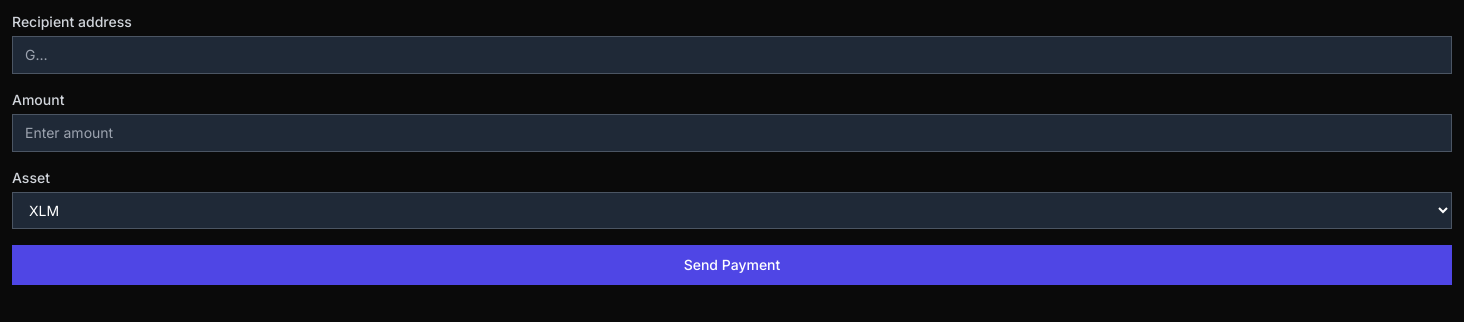
PaymentForm › shows validation error for invalid Stellar address
Type "not-a-valid-address" into the field labelled "Recipient address".
click(732, 55); type("not-a-valid-address")  # box [12,36,1452,74]
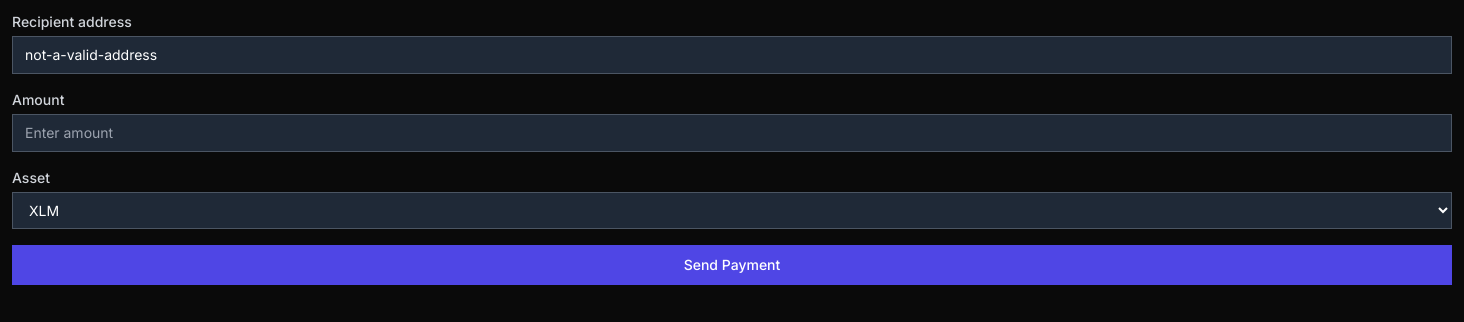
Type "10" into the number field labelled "Amount".
click(732, 133); type("10")  # box [12,114,1452,152]
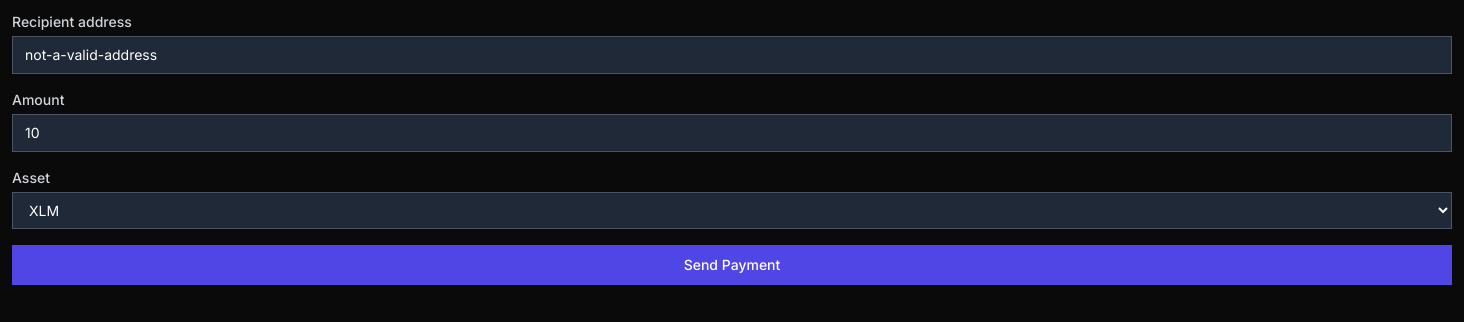
Click the button "Send Payment".
click(732, 265)  # box [12,245,1452,285]
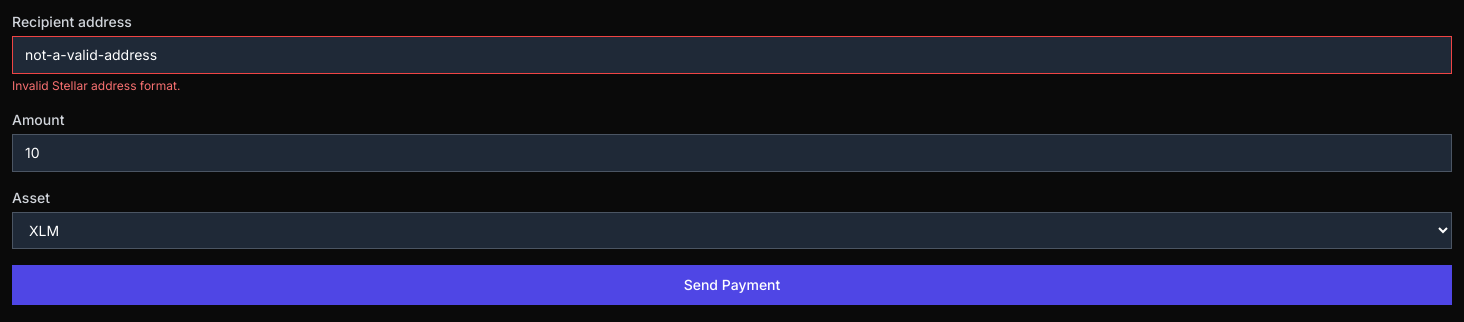
Now the text "Invalid Stellar address format." is shown, box [12,78,180,93]
